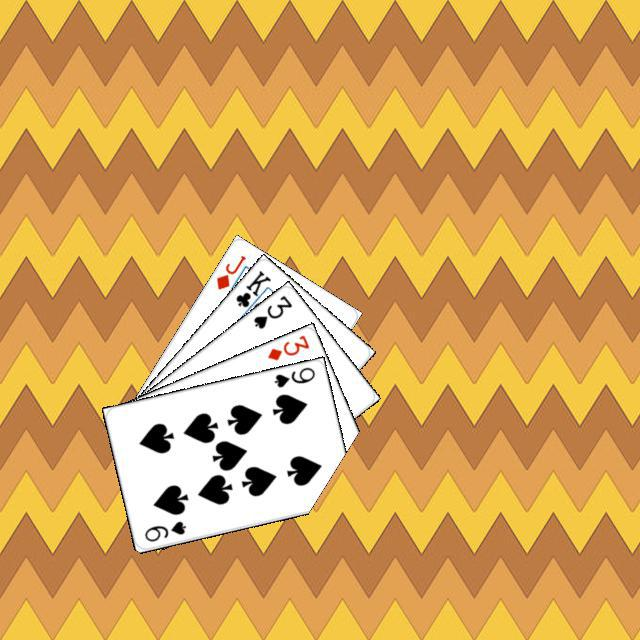3d: (262, 330, 311, 362)
3s: (248, 290, 294, 331)
9s: (269, 362, 317, 389), (140, 516, 188, 543)
Jd: (211, 250, 248, 292)
Kc: (231, 265, 273, 318)
